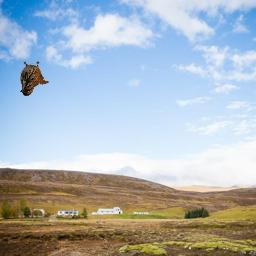Sparrow: (21, 60, 50, 96)
